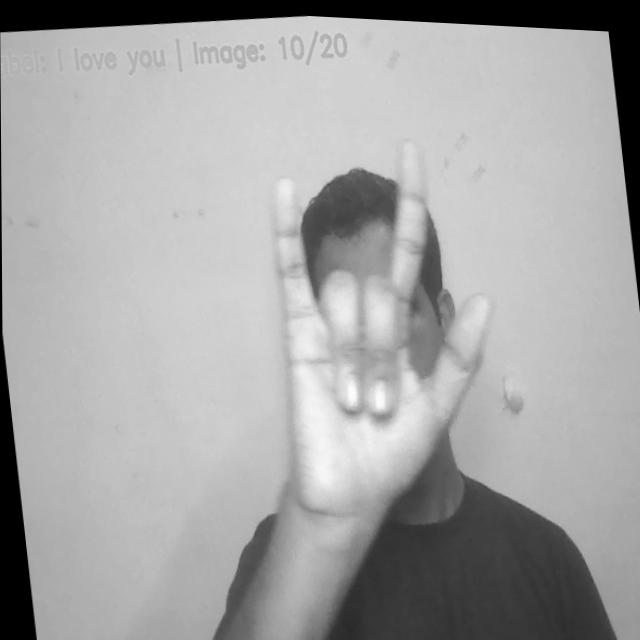I love you: (253, 119, 515, 530)
